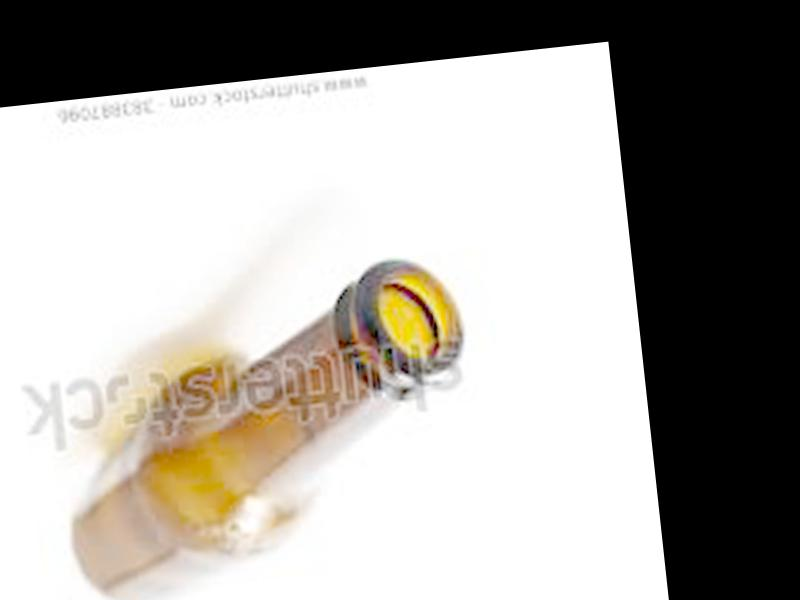Beer: (43, 250, 490, 600)
